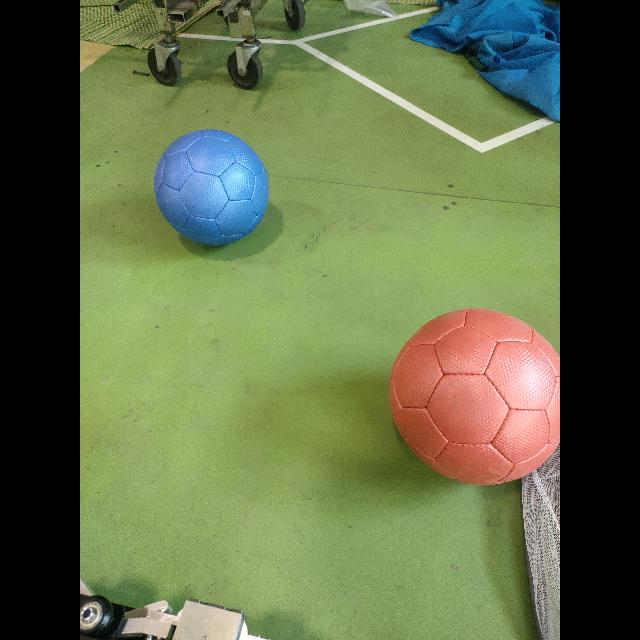B: (153, 129, 270, 251)
R: (388, 309, 560, 488)
